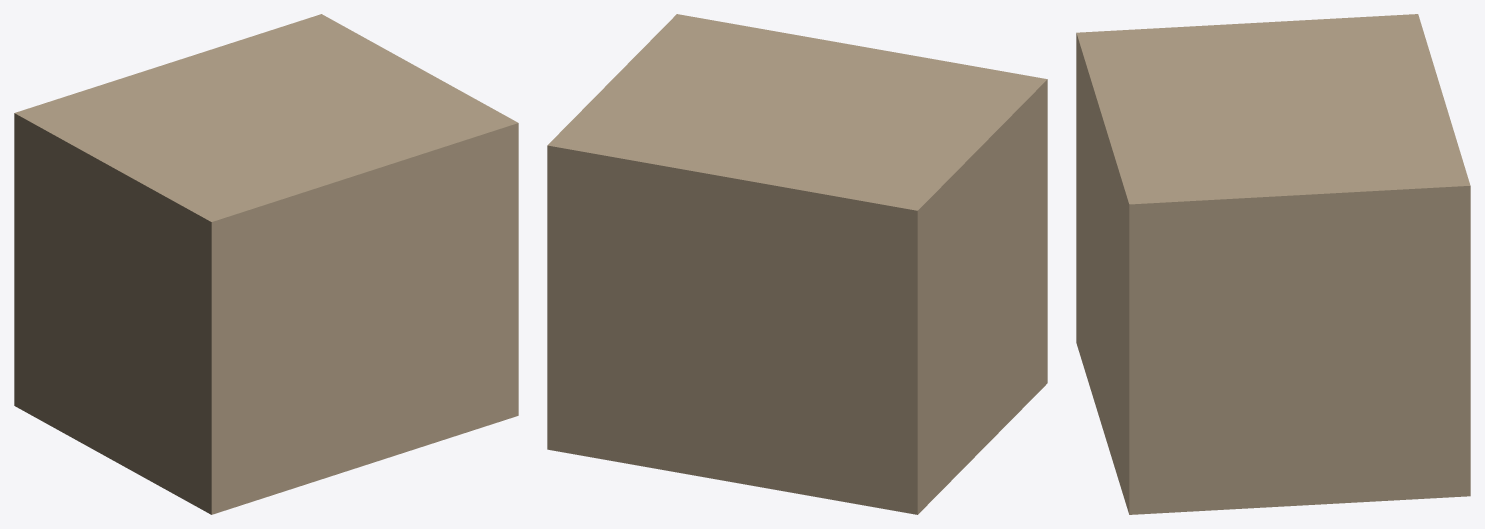
Rendered from bld_107639403.dae.
The picture shows the model from 3 angles, left to right: view 1: azimuth 30°, elevation 25°; view 2: azimuth 150°, elevation 25°; view 3: azimuth 270°, elevation 25°; orthographic projection. The views are drawn at different scales.
Visible parts, largest first — view 1: bld_107639403; view 2: bld_107639403; view 3: bld_107639403.
Part boxes in pixels (x1,y1,x2,y2): bld_107639403: (14, 14, 518, 514); bld_107639403: (547, 14, 1047, 514); bld_107639403: (1076, 14, 1470, 514).
Size of the model in its own units: 10.53 by 9.2 by 8.
